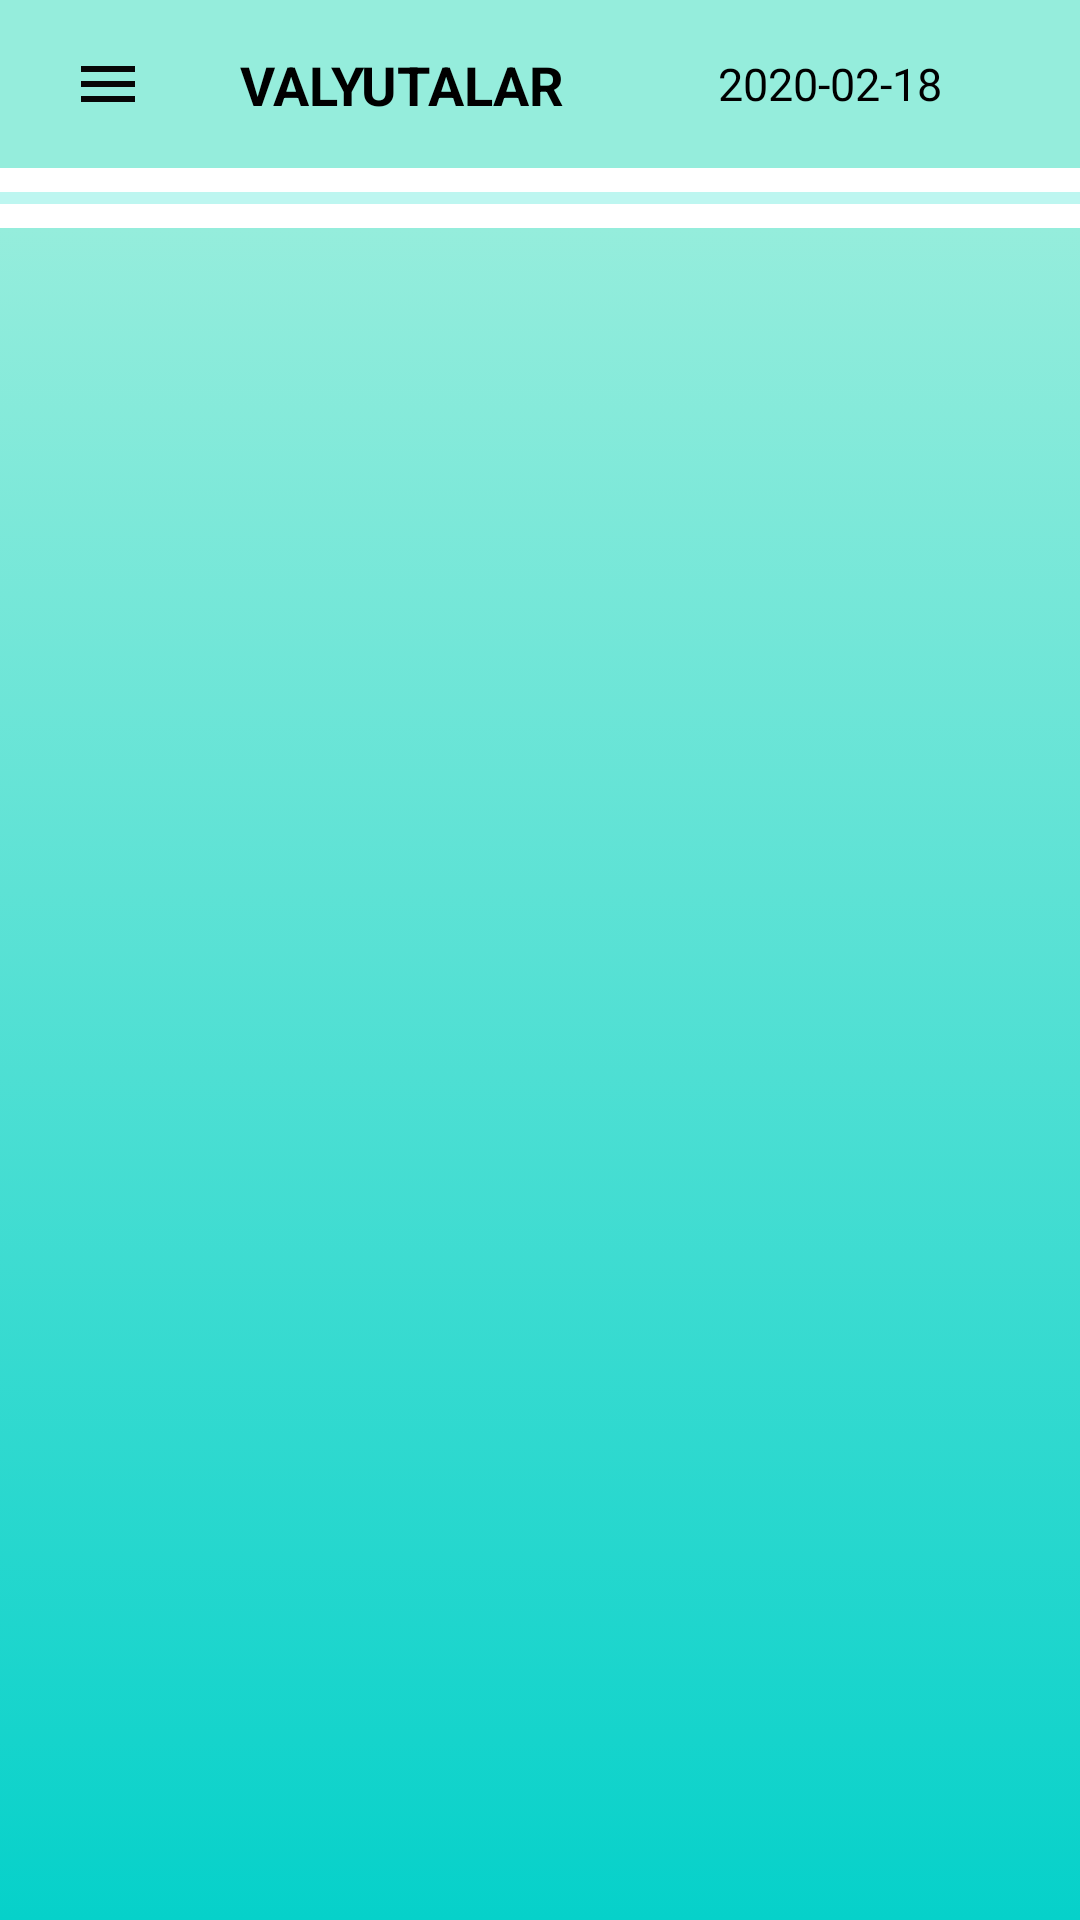

Point at icon controls on the screen. Image size 1080px×1920px, points as [x,y].
menu: [108,84]
